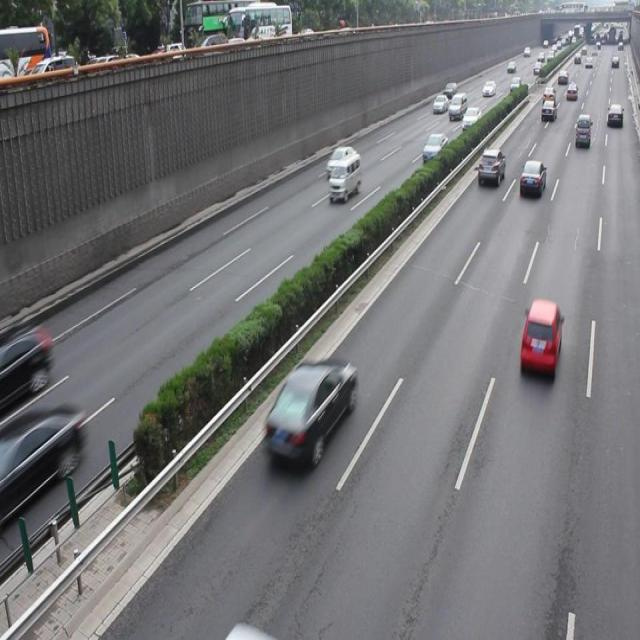car: (266, 356, 358, 469), (1, 402, 89, 518), (0, 318, 52, 406), (517, 296, 560, 372), (476, 146, 504, 188), (519, 158, 545, 196), (326, 145, 354, 176), (422, 132, 446, 164)
truck: (329, 153, 361, 200)
